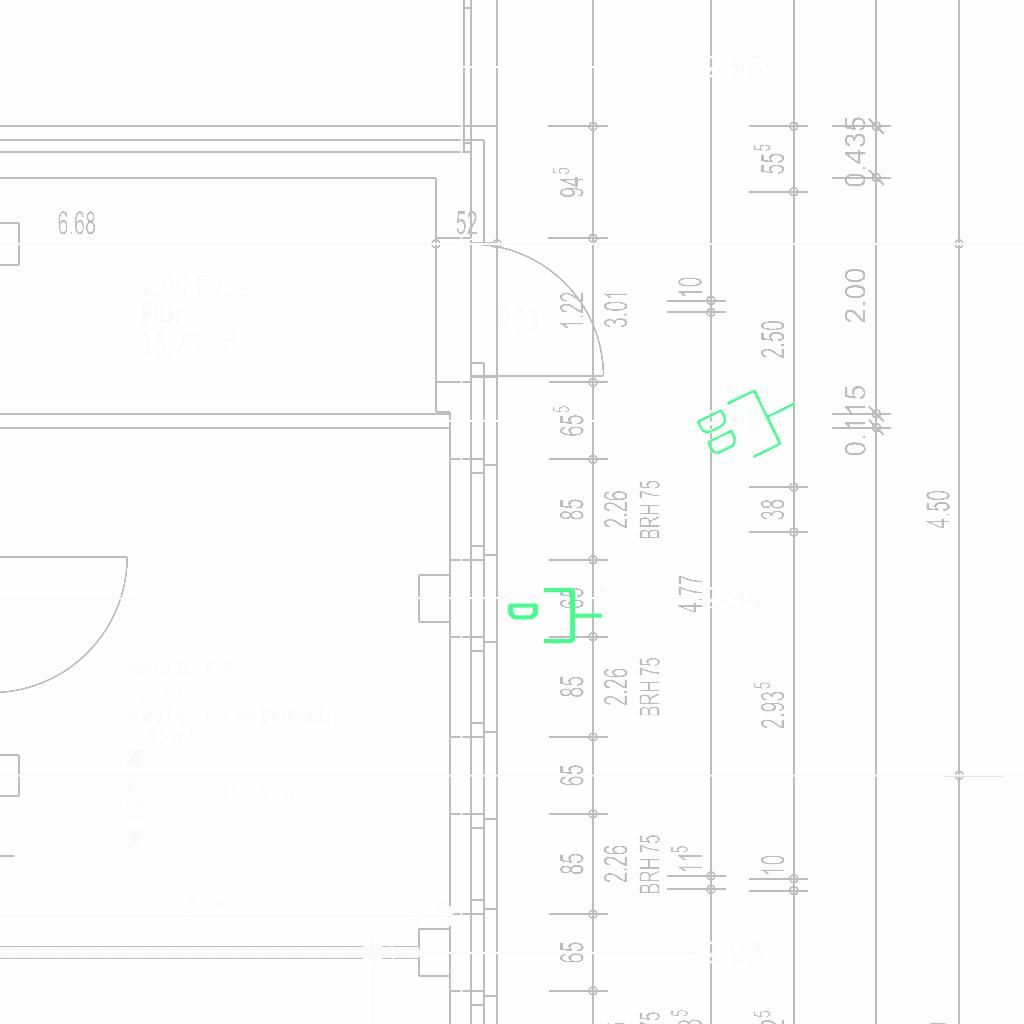Datenanschluss_einfach: (505, 583, 605, 652)
Datenanschluss_zweifach: (689, 370, 812, 479)
